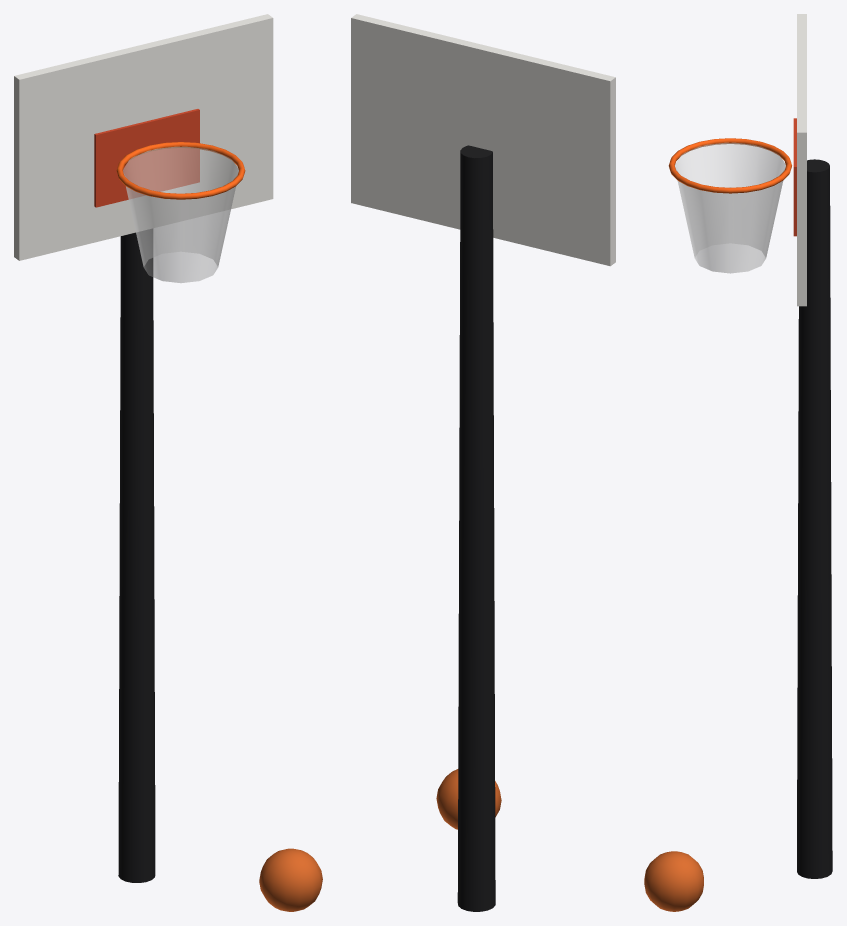
The model's file is hoop.glb.
3 views of the same model, side by side, from view 1: azimuth 30°, elevation 25°; view 2: azimuth 150°, elevation 25°; view 3: azimuth 270°, elevation 25° (orthographic). The views are drawn at different scales.
Visible parts, largest first — view 1: hoop; view 2: hoop; view 3: hoop.
Part boxes in pixels (x1,y1,x2,y2): hoop: (14,14,322,911); hoop: (351,14,615,911); hoop: (644,14,832,911).
Size of the model in its own units: 1.1 by 3.45 by 0.737.
